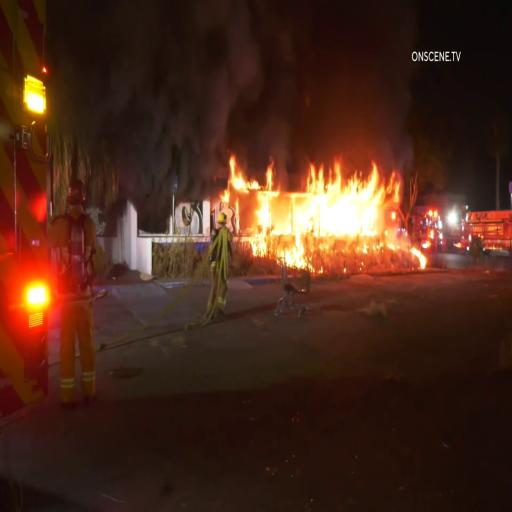fire: (234, 177, 305, 260), (310, 173, 386, 241)
smoke: (72, 8, 247, 180), (245, 11, 406, 158)
